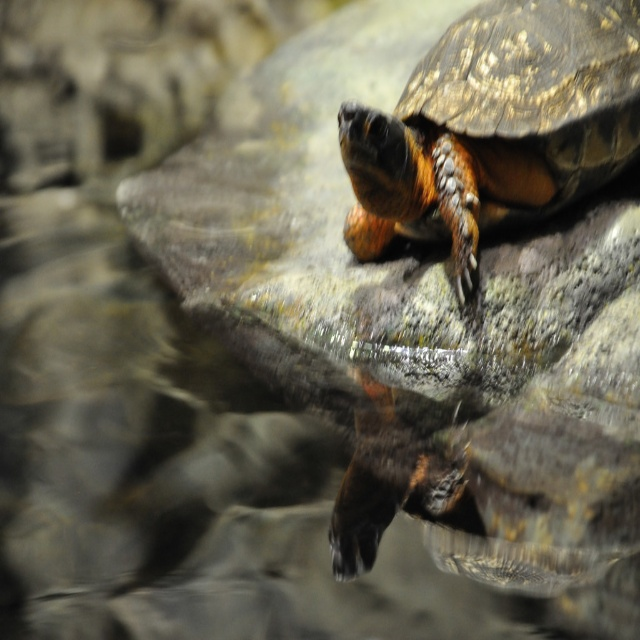Sea turtle: (334, 0, 640, 312)
